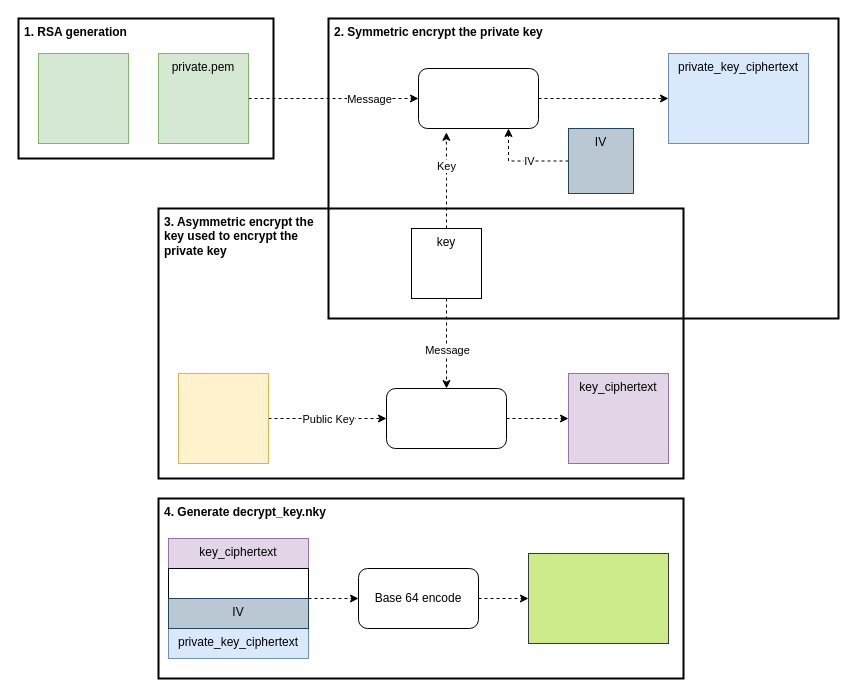
Image size: 856x696. Some labels were removed from this diagram. The centre of each missing label's shape, as x and y in pixels:
AES 256 CBC: point (478, 98)
decryption_key_nky: point (598, 598)
og_public.pem: point (223, 418)
public.pem: point (83, 98)
RSA 2048 Public Encrypt: point (446, 418)
safeword: point (238, 583)
